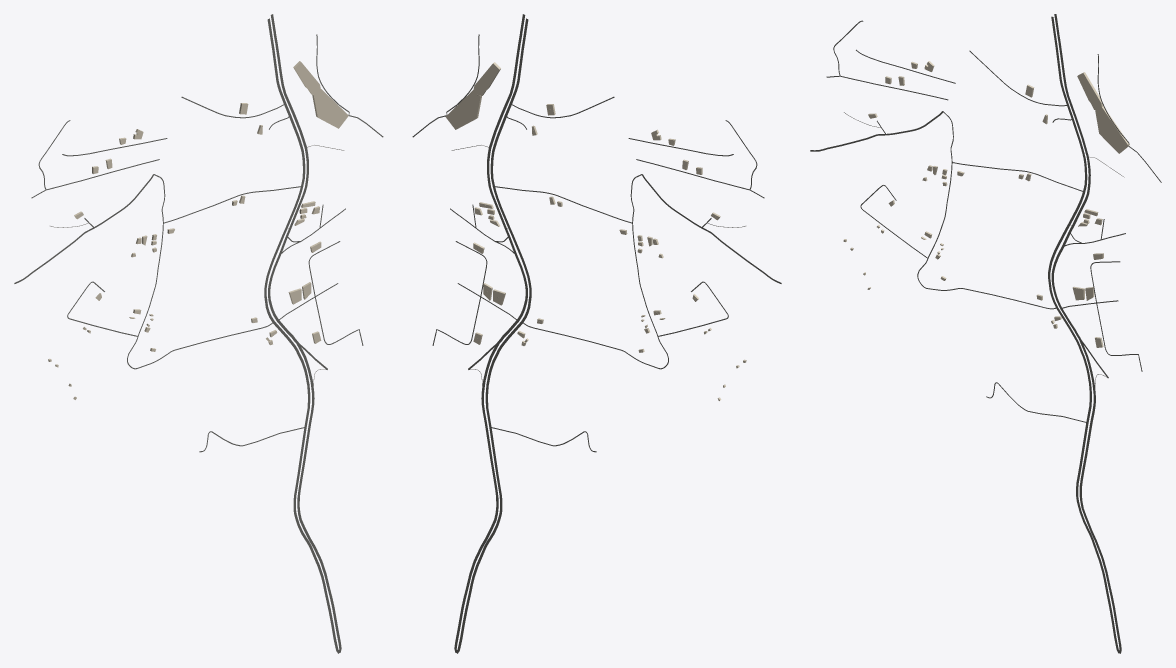
The model's file is amman_3584_3192.glb.
3 renders of one model, left to right at view 1: azimuth 30°, elevation 25°; view 2: azimuth 150°, elevation 25°; view 3: azimuth 330°, elevation 25°, orthographic. The views are drawn at different scales.
Parts seen in each view (by area): view 1: Road شارع نالتشك, Road شارع نالتشك.001, Building_.036; view 2: Road شارع نالتشك, Road شارع نالتشك.001, Building_.036; view 3: Road شارع نالتشك, Road شارع نالتشك.001, Building_.036.
Boxes of the visible parts, x1,y1,x2,y2 form: Road شارع نالتشك: [268, 14, 341, 652]; Road شارع نالتشك.001: [264, 18, 339, 653]; Building_.036: [293, 61, 348, 128]; Road شارع نالتشك: [454, 14, 527, 652]; Road شارع نالتشك.001: [457, 18, 531, 653]; Building_.036: [445, 62, 500, 129]; Road شارع نالتشك: [1051, 14, 1121, 653]; Road شارع نالتشك.001: [1048, 16, 1119, 653]; Building_.036: [1077, 72, 1129, 153].
Size of the model in its own units: 1222 by 2074 by 10.5.
